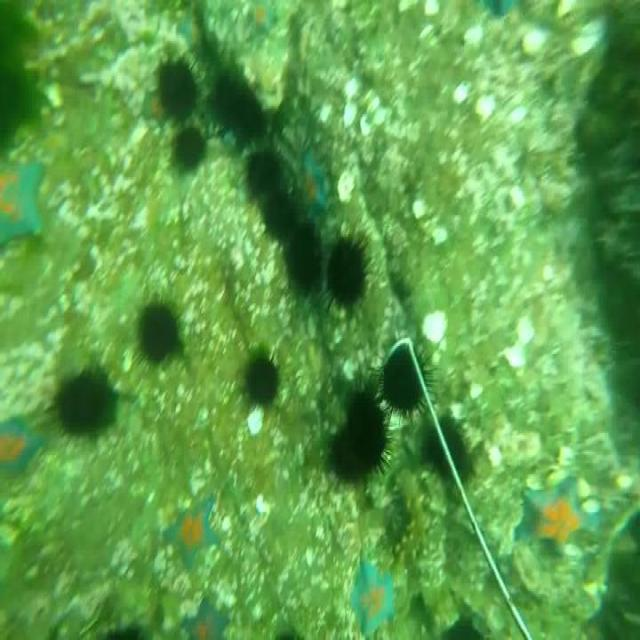echinus: (56, 371, 116, 476), (332, 381, 393, 480), (374, 342, 439, 428), (324, 224, 372, 320), (208, 69, 265, 144), (138, 297, 178, 373), (427, 414, 471, 480), (156, 57, 202, 120), (281, 224, 318, 299), (239, 348, 284, 409), (263, 185, 302, 239), (246, 144, 284, 193), (172, 124, 204, 168)
holothurian: (393, 466, 428, 586)
scallop: (572, 12, 608, 58), (423, 313, 448, 343), (522, 30, 549, 57), (505, 341, 530, 370), (474, 93, 498, 122), (336, 169, 356, 202), (248, 408, 265, 434), (343, 101, 358, 128), (462, 27, 486, 43), (518, 319, 534, 342), (454, 87, 468, 103)
starfish: (516, 472, 596, 560), (348, 559, 398, 640), (2, 158, 47, 243), (163, 496, 221, 561), (294, 148, 326, 223), (4, 416, 44, 474), (184, 599, 228, 640), (248, 0, 273, 35)
